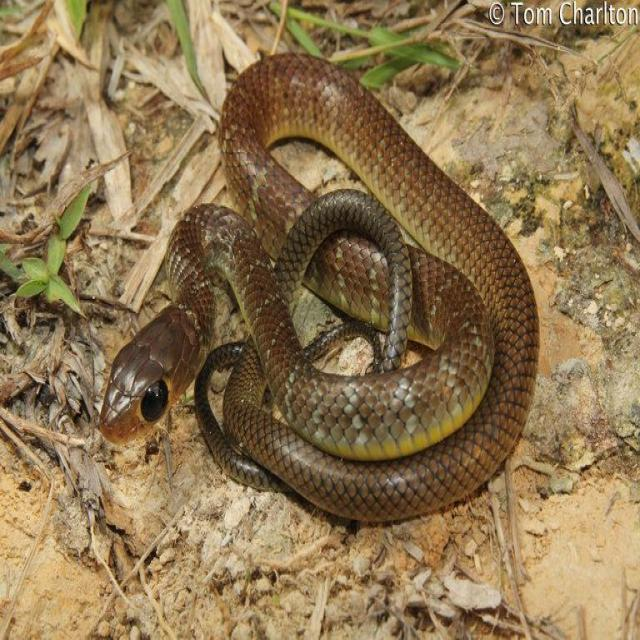Snake: (98, 49, 540, 524)
